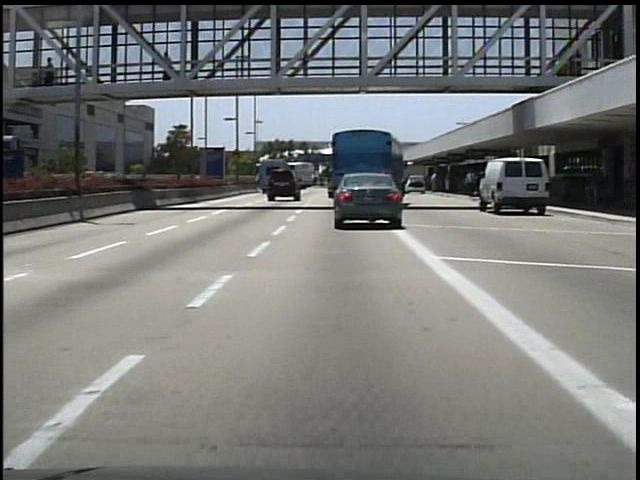person: (588, 166, 609, 211), (160, 50, 180, 92), (43, 55, 62, 88), (464, 166, 479, 199)
